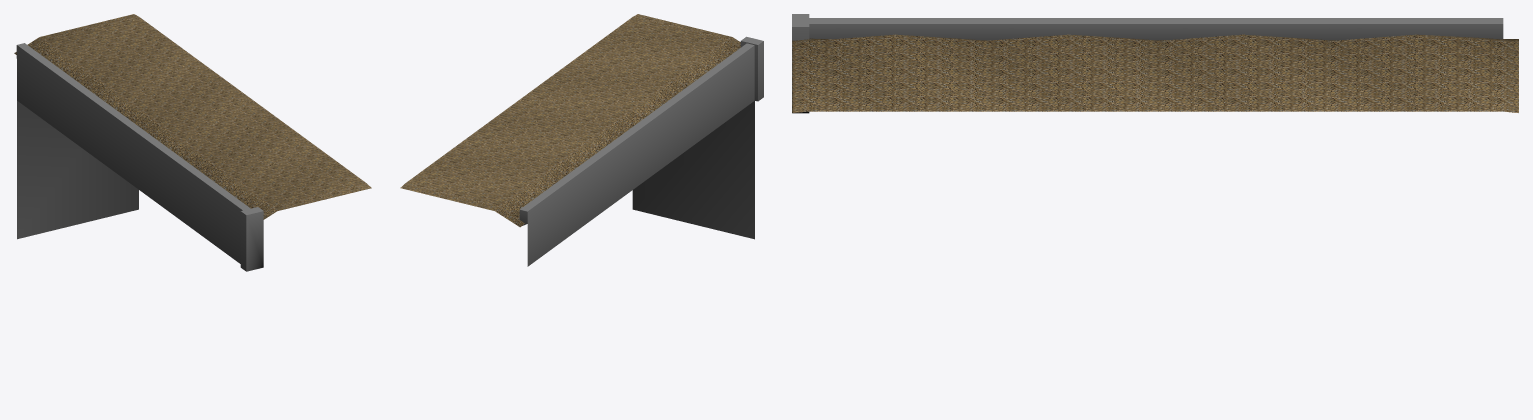
The model's file is BIWA_01_R.glb.
3 renders of one model, left to right at view 1: azimuth 30°, elevation 25°; view 2: azimuth 150°, elevation 25°; view 3: azimuth 270°, elevation 25°, orthographic. The views are drawn at different scales.
Parts seen in each view (by area): view 1: Model; view 2: Model; view 3: Model.
Part boxes in pixels (x1,y1,x2,y2): Model: (14, 14, 371, 271); Model: (400, 14, 763, 266); Model: (792, 14, 1518, 113).
Bounding box in the file's own units: 31.88 × 47.37 × 105.
2 materials, 2 textured.
